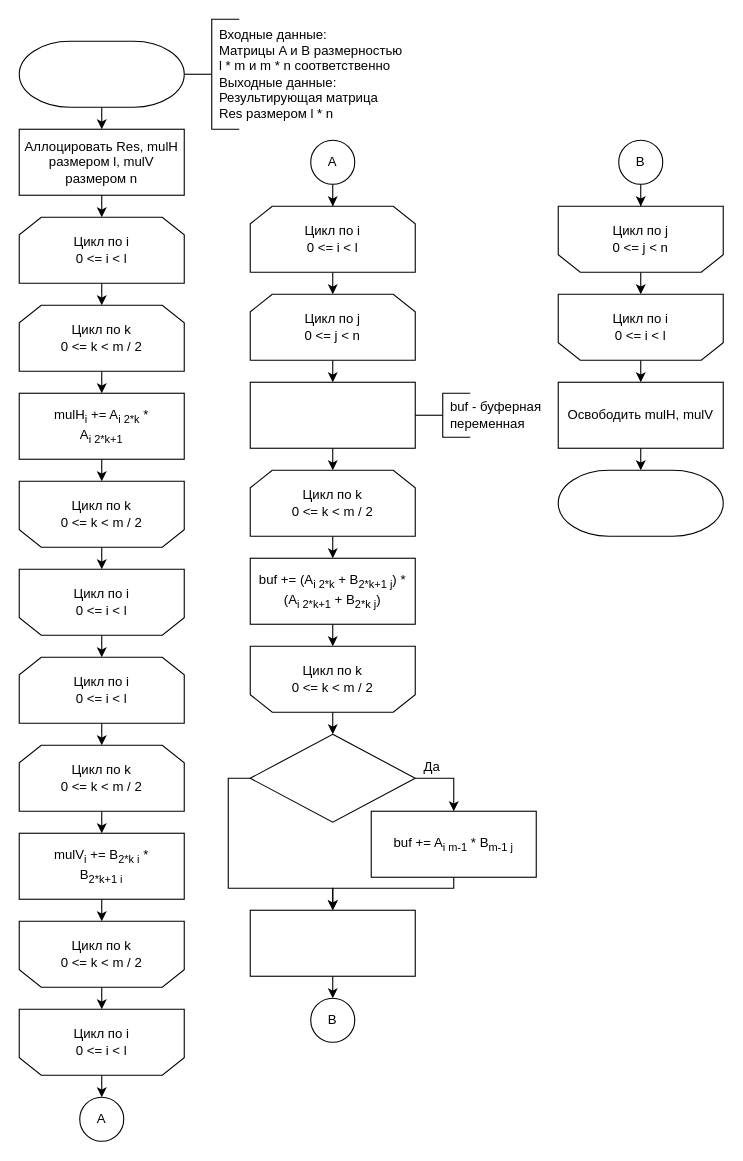
The diagram is 743 pixels wide and 1161 high, and some of its shapes have lost their labels. The centre of each missing label's shape, as x and y in pixels:
"buf = -mulH i -mulV j" goes at (x=332, y=414).
"m % 2 == 1" goes at (x=332, y=777).
"Res ij = buf" goes at (x=332, y=942).
"Конец" goes at (x=640, y=502).
"Начало" goes at (x=101, y=73).
